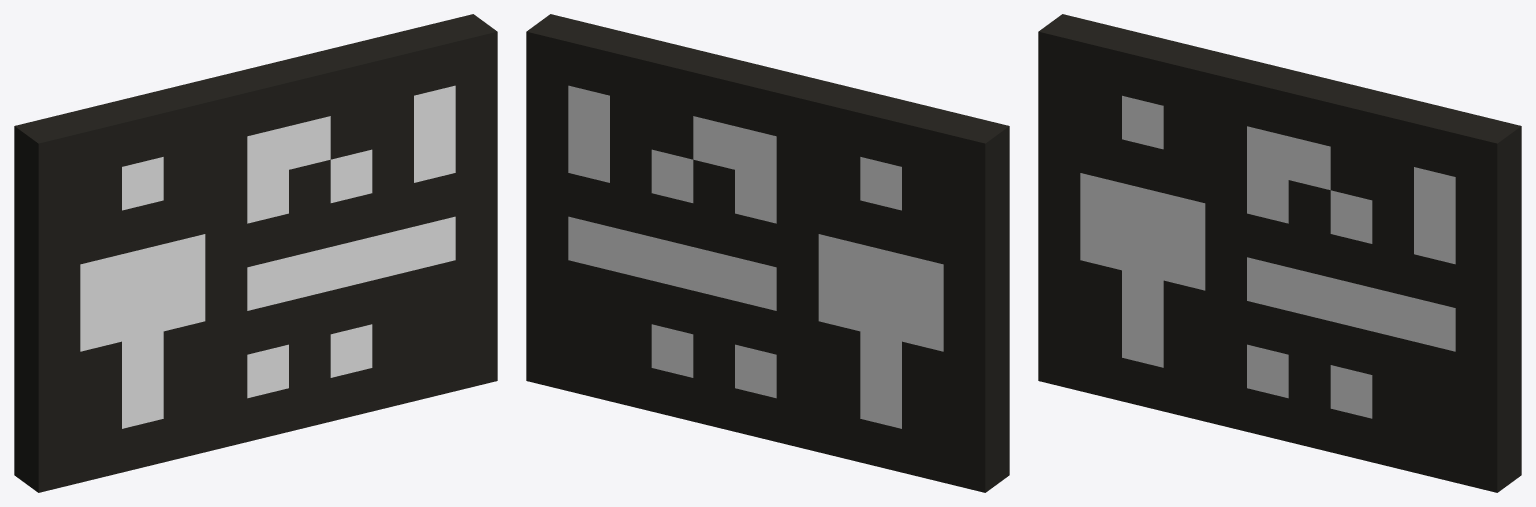
The model's file is Advertising-11.fbx.
The picture shows the model from 3 angles, left to right: view 1: azimuth 30°, elevation 25°; view 2: azimuth 150°, elevation 25°; view 3: azimuth 330°, elevation 25°; orthographic projection.
Visible parts, largest first — view 1: Advertising_11; view 2: Advertising_11; view 3: Advertising_11.
Part boxes in pixels (left/top/right/bottom): Advertising_11: left=14, top=14, right=497, bottom=492; Advertising_11: left=526, top=14, right=1009, bottom=492; Advertising_11: left=1038, top=14, right=1521, bottom=492.
Size of the model in its own units: 110 by 80 by 10.
